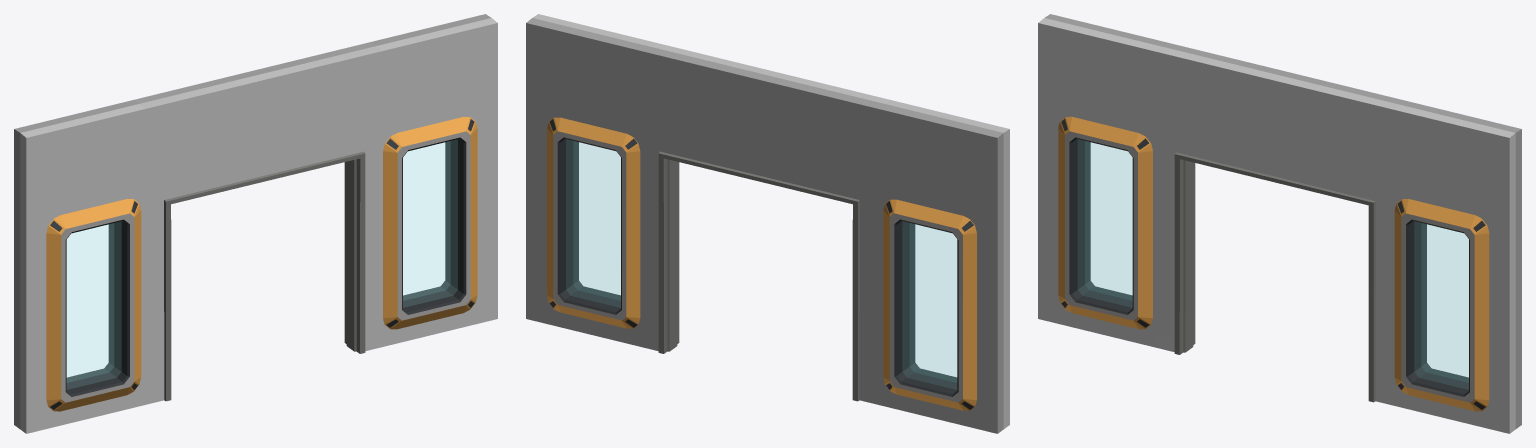
Rendered from SM_Bld_Wall_Shop_01.fbx.
3 renders of one model, left to right at view 1: azimuth 30°, elevation 25°; view 2: azimuth 150°, elevation 25°; view 3: azimuth 330°, elevation 25°, orthographic.
Parts seen in each view (by area): view 1: SM_Bld_Wall_Shop_01, SM_Bld_Wall_Shop__01_Glass_01; view 2: SM_Bld_Wall_Shop_01, SM_Bld_Wall_Shop__01_Glass_01; view 3: SM_Bld_Wall_Shop_01, SM_Bld_Wall_Shop__01_Glass_01.
Part boxes in pixels (left/top/right/bottom): SM_Bld_Wall_Shop_01: left=14, top=14, right=497, bottom=433; SM_Bld_Wall_Shop__01_Glass_01: left=67, top=140, right=457, bottom=388; SM_Bld_Wall_Shop_01: left=526, top=14, right=1009, bottom=433; SM_Bld_Wall_Shop__01_Glass_01: left=566, top=140, right=956, bottom=388; SM_Bld_Wall_Shop_01: left=1038, top=14, right=1521, bottom=433; SM_Bld_Wall_Shop__01_Glass_01: left=1078, top=140, right=1468, bottom=388.
Size of the model in its own units: 500 by 301 by 36.87.
